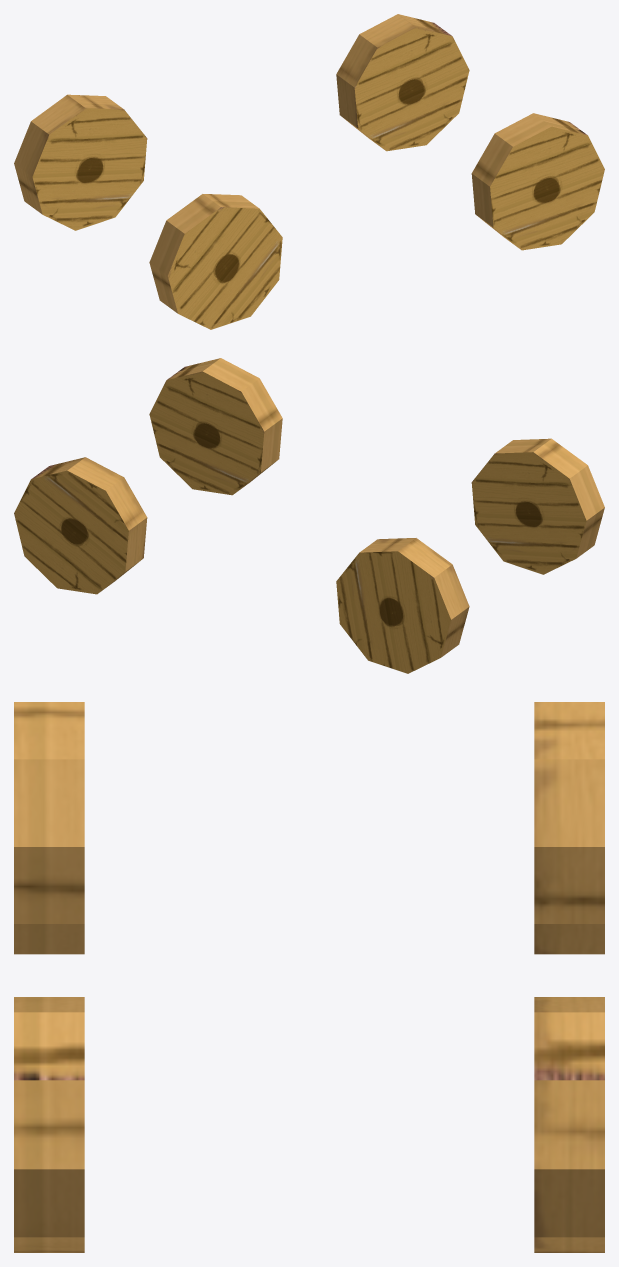
The model's file is CatapultaLlantas.fbx.
3 views of the same model, one above another, from view 1: azimuth 30°, elevation 25°; view 2: azimuth 150°, elevation 25°; view 3: azimuth 270°, elevation 25° (orthographic). The views are drawn at different scales.
Visible parts, largest first — view 1: polySurface3, polySurface4, polySurface5, polySurface6; view 2: polySurface4, polySurface3, polySurface6, polySurface5; view 3: polySurface5, polySurface6, polySurface3, polySurface4.
Part boxes in pixels (x1,y1,x2,y2): polySurface3: (14,94,147,230); polySurface4: (149,194,282,329); polySurface5: (336,14,469,151); polySurface6: (471,113,604,250); polySurface4: (471,438,604,574); polySurface3: (336,538,469,673); polySurface6: (149,358,282,495); polySurface5: (14,457,147,594); polySurface5: (534,997,604,1252); polySurface6: (14,997,84,1252); polySurface3: (534,702,604,954); polySurface4: (14,702,84,954).
Size of the model in its own units: 454 by 119 by 276.
